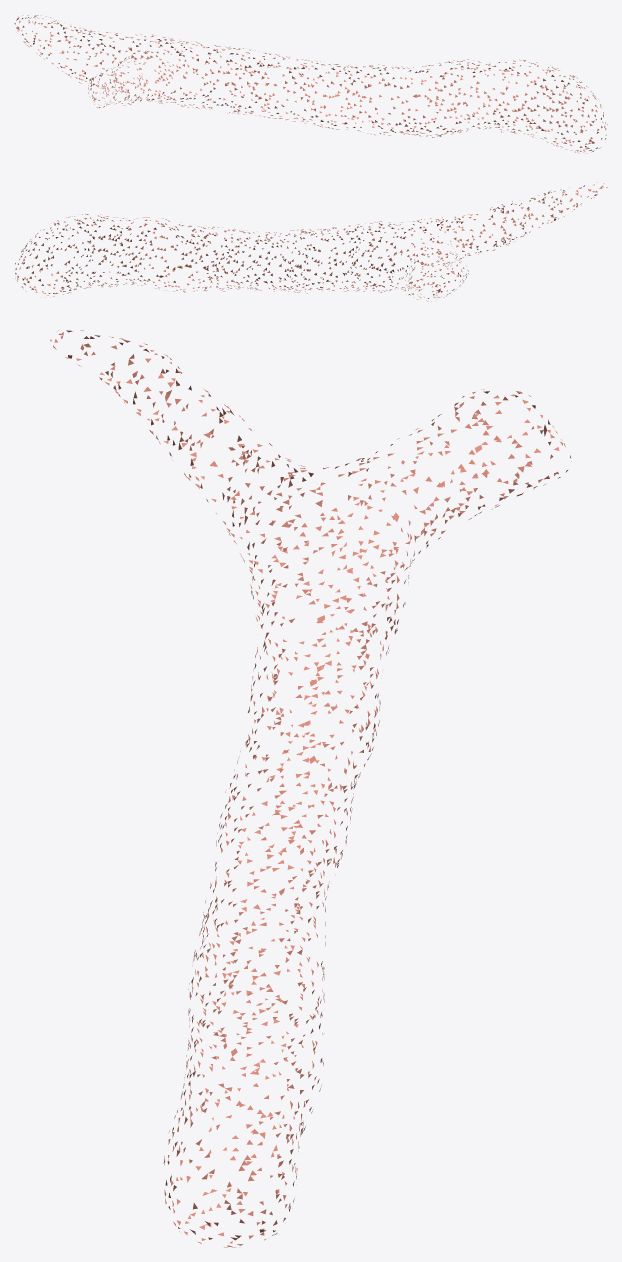
File: morph_002.glb
3 views of the same model, one above another, from view 1: azimuth 30°, elevation 25°; view 2: azimuth 150°, elevation 25°; view 3: azimuth 270°, elevation 25° (orthographic). The views are drawn at different scales.
Bounding box in the file's own units: 132 × 48.56 × 54.76.
